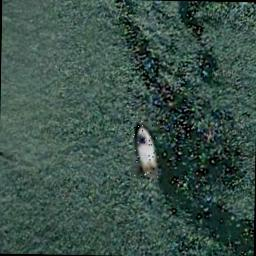boat: (132, 122, 162, 178)
